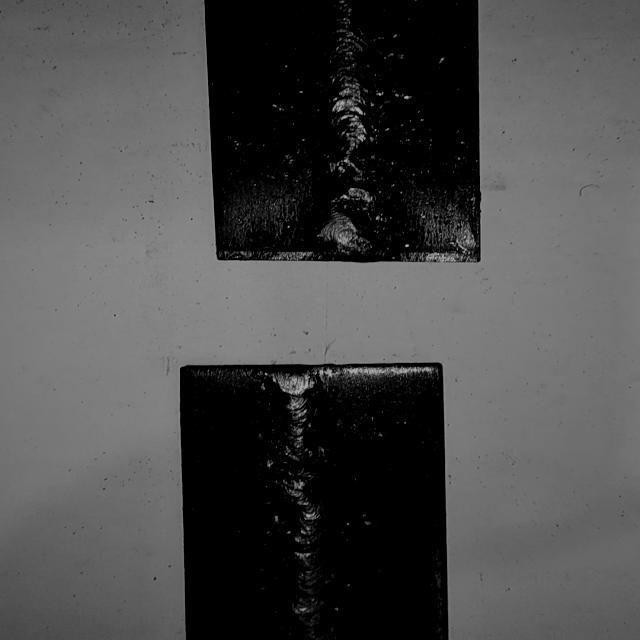Defect: (304, 143, 412, 205)
Welding Line: (317, 0, 393, 255), (268, 370, 332, 640)
Workpiece: (176, 362, 452, 640), (200, 0, 484, 263)
